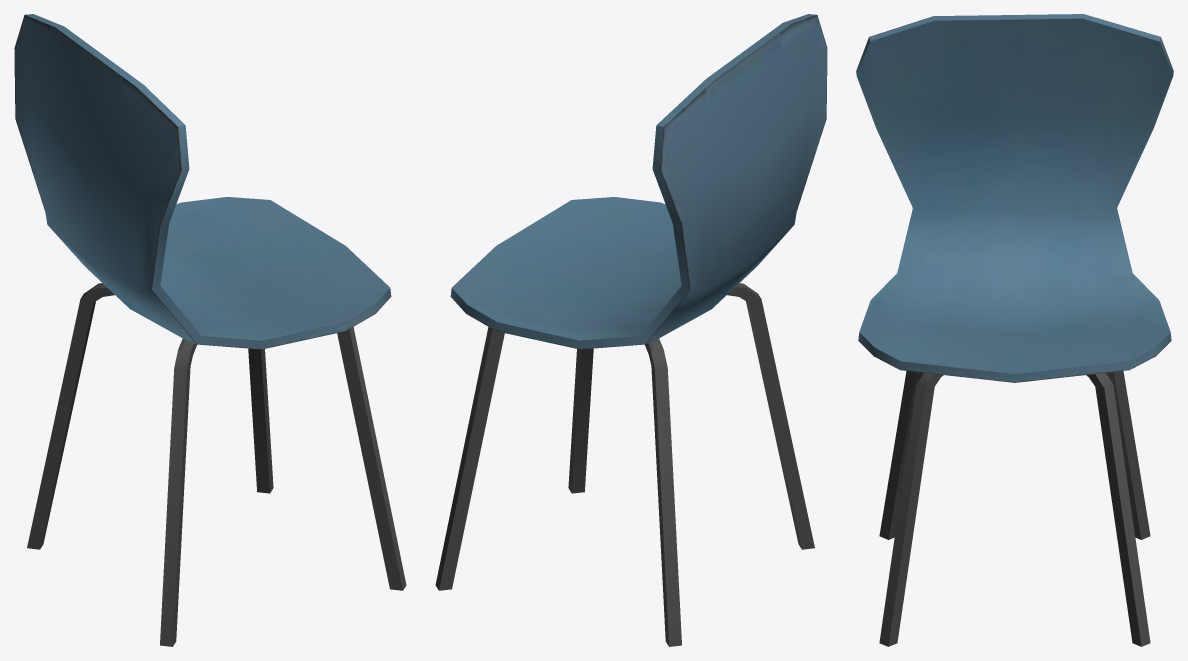
3 views of the same model, side by side, from view 1: azimuth 30°, elevation 25°; view 2: azimuth 150°, elevation 25°; view 3: azimuth 270°, elevation 25° (orthographic). The views are drawn at different scales.
Parts seen in each view (by area): view 1: body0_model0_lod0_mesh0; view 2: body0_model0_lod0_mesh0; view 3: body0_model0_lod0_mesh0.
Boxes of the visible parts, x1,y1,x2,y2 form: body0_model0_lod0_mesh0: (14,14,406,646); body0_model0_lod0_mesh0: (435,14,827,646); body0_model0_lod0_mesh0: (856,14,1173,646).
Bounding box in the file's own units: 23.06 × 43.81 × 24.37.
Materials: 1 (1 with a texture image).
